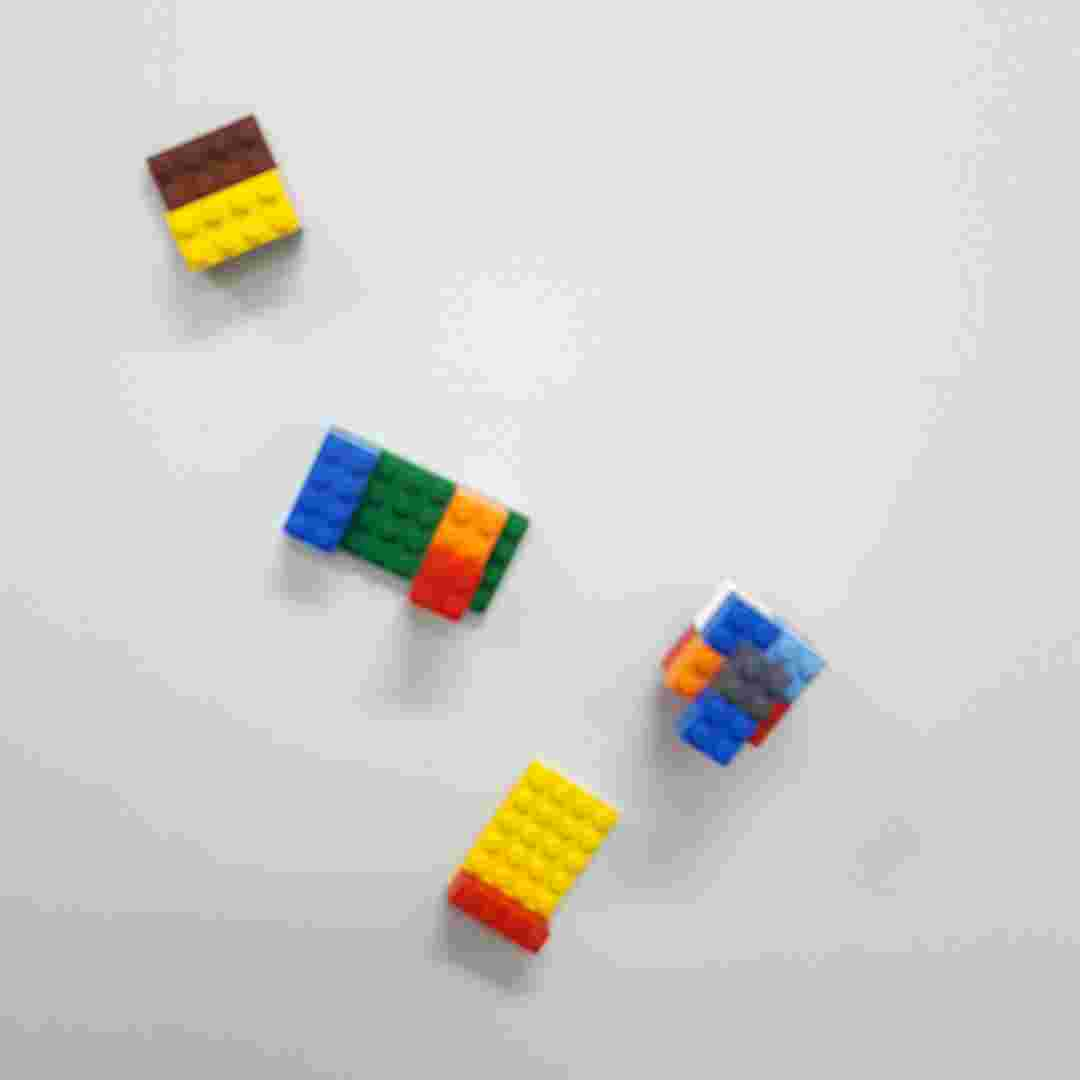LEGO: (273, 423, 531, 622), (441, 754, 627, 959), (651, 574, 831, 770), (139, 103, 314, 279)
